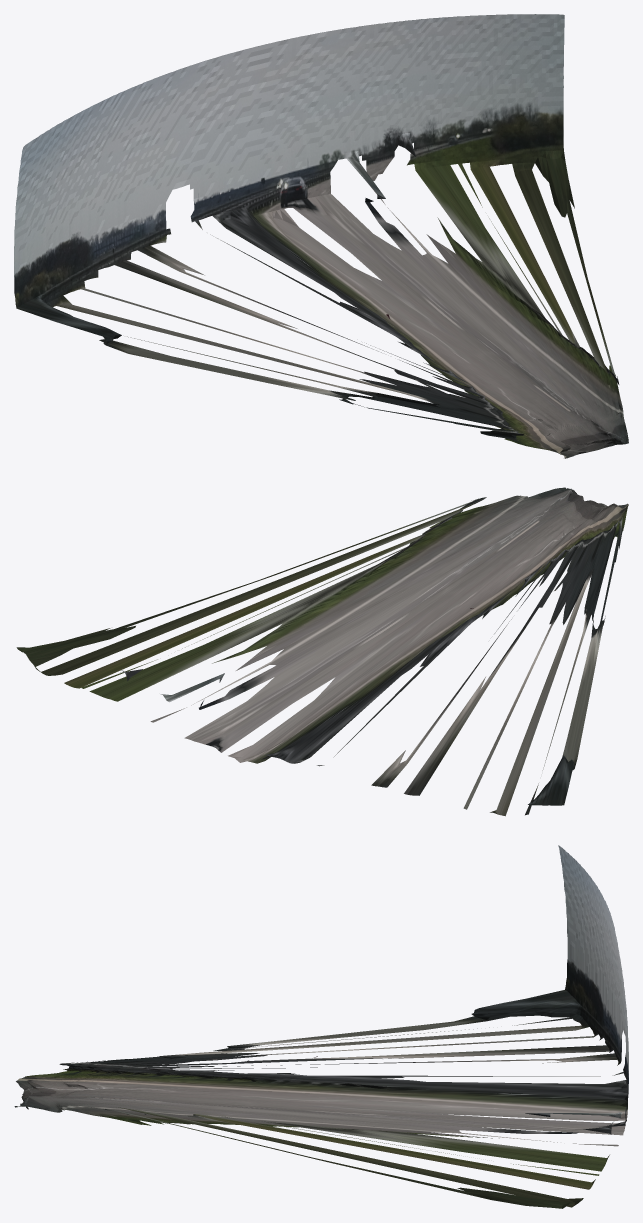
The picture shows the model from 3 angles, top to bottom: view 1: azimuth 30°, elevation 25°; view 2: azimuth 150°, elevation 25°; view 3: azimuth 270°, elevation 25°; orthographic projection. The views are drawn at different scales.
Visible parts, largest first — view 1: defaultobject; view 2: defaultobject; view 3: defaultobject.
Part boxes in pixels (box(x1,y1,x2,y2)): defaultobject: box(14, 14, 628, 458); defaultobject: box(16, 487, 628, 816); defaultobject: box(14, 845, 628, 1208).
Size of the model in its own units: 41.16 by 13.69 by 44.7.
1 material, 1 textured.
